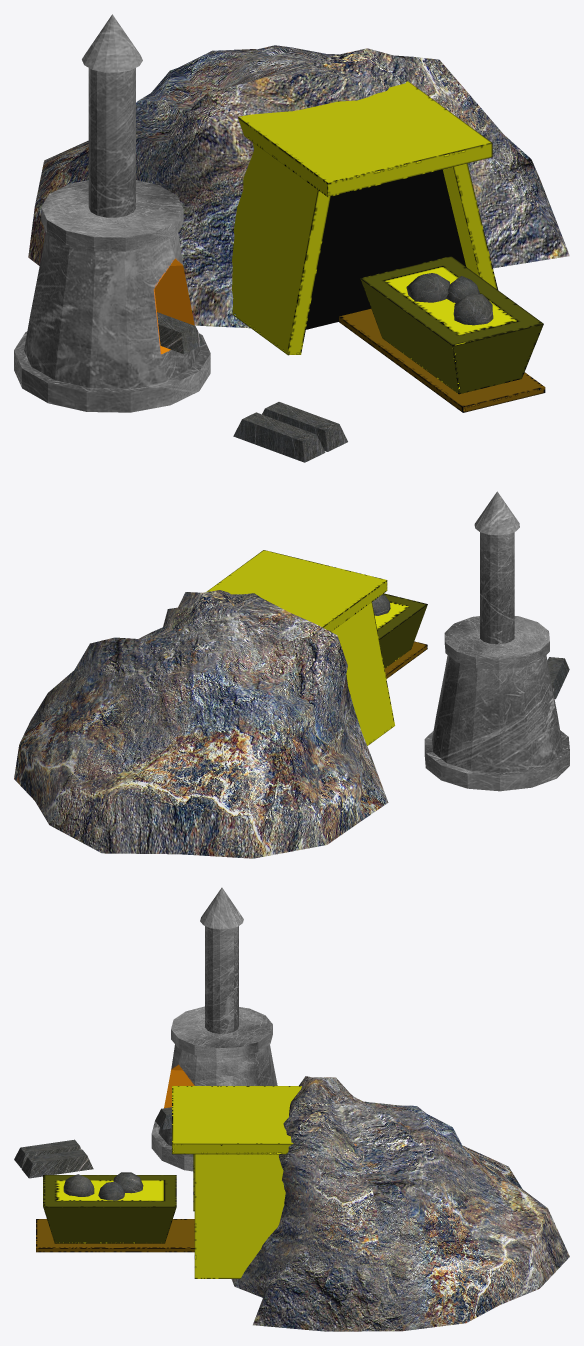
Rendered from iron_mine_lod2.fbx.
3 renders of one model, top to bottom at view 1: azimuth 30°, elevation 25°; view 2: azimuth 150°, elevation 25°; view 3: azimuth 270°, elevation 25°, orthographic. The views are drawn at different scales.
Parts seen in each view (by area): view 1: iron_mine_mesh; view 2: iron_mine_mesh; view 3: iron_mine_mesh.
Boxes of the visible parts, x1,y1,x2,y2 form: iron_mine_mesh: [14, 14, 569, 462]; iron_mine_mesh: [14, 491, 569, 858]; iron_mine_mesh: [14, 887, 569, 1331].
Bounding box in the file's own units: 21.37 × 13.05 × 24.38.
